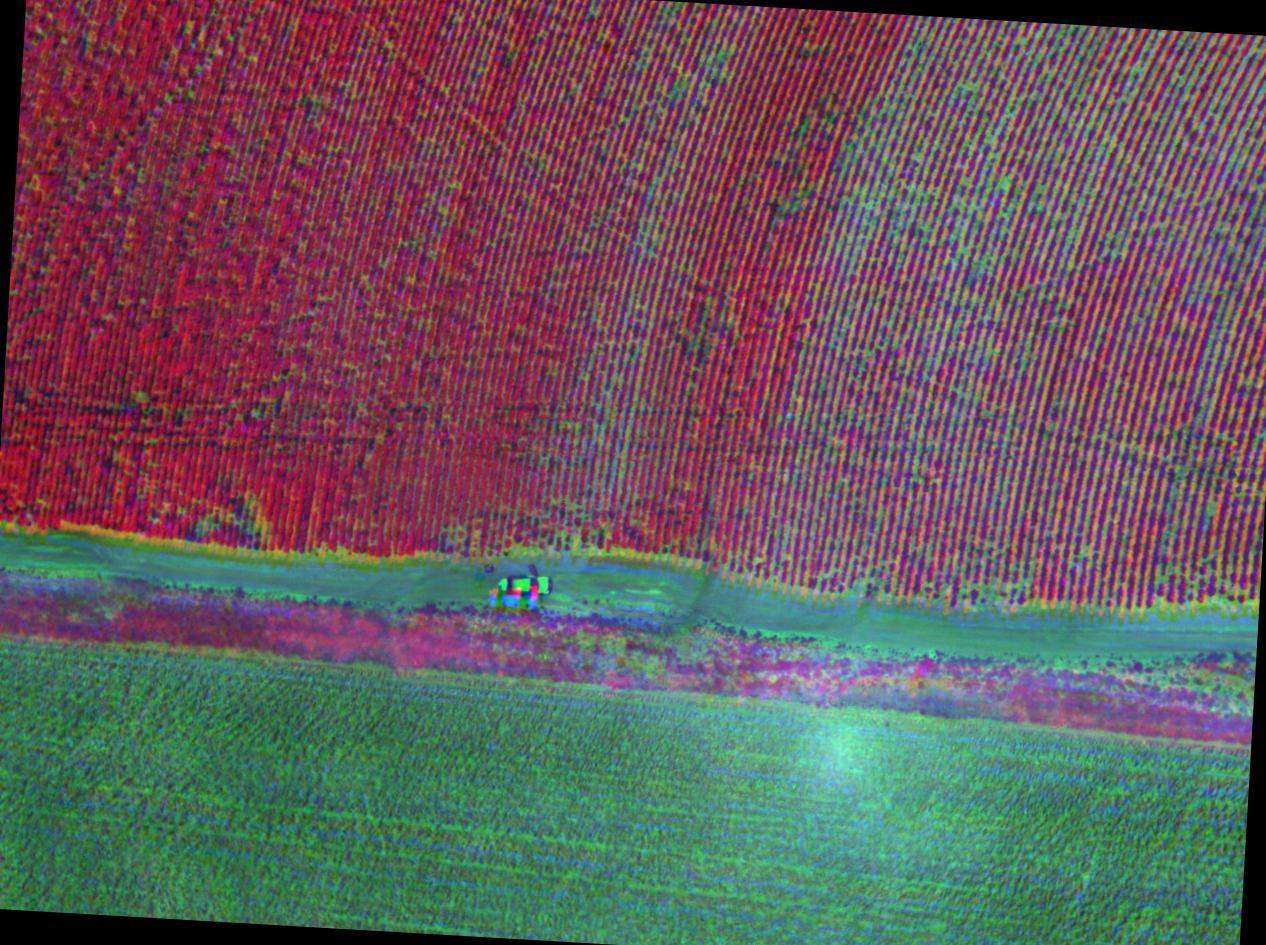dc: (851, 185, 958, 315), (816, 403, 906, 556), (976, 170, 1076, 306), (1081, 80, 1182, 209), (881, 70, 978, 166), (1106, 553, 1256, 614), (956, 550, 1030, 614)
